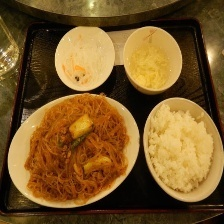rice: (146, 100, 220, 195)
